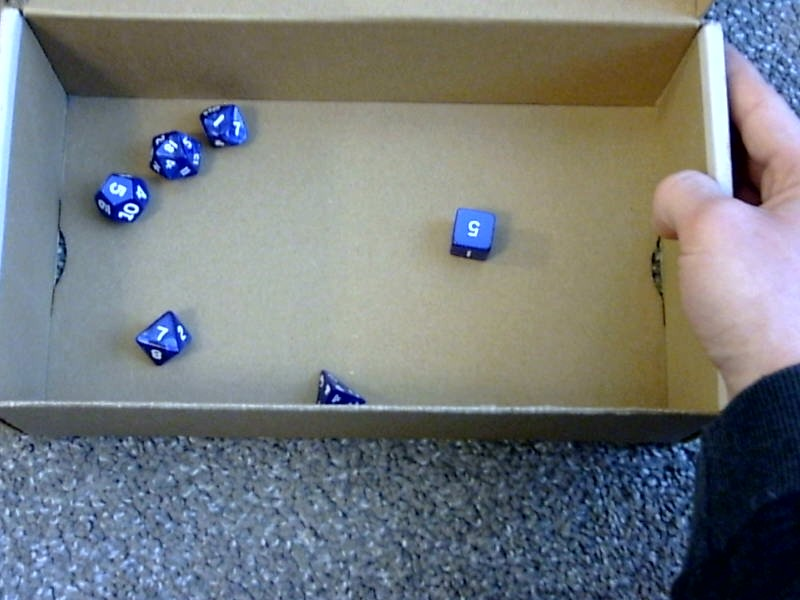d10 1: (197, 94, 249, 149)
d12 5: (95, 169, 147, 225)
d20 18: (149, 128, 200, 182)
d4 4: (309, 368, 367, 409)
d6 5: (449, 203, 496, 263)
d8 7: (132, 308, 191, 367)
